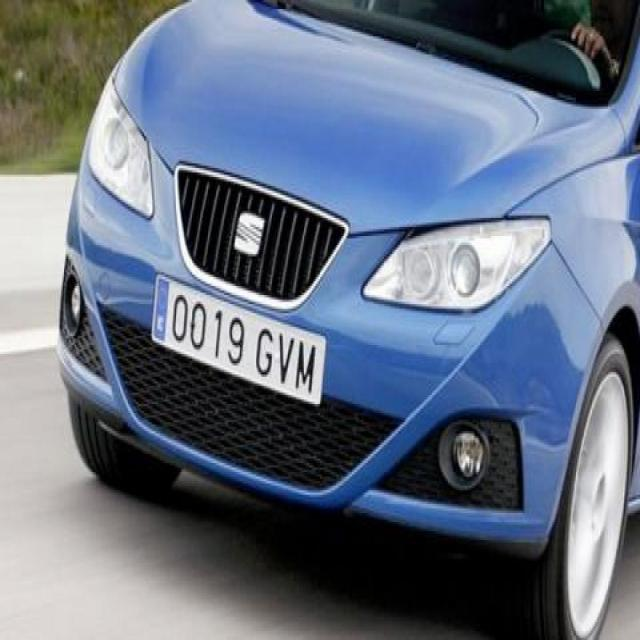License-Plate: (151, 262, 327, 409)
